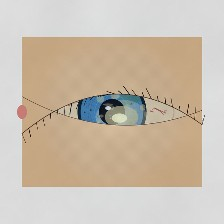corneal_ulcer: (94, 95, 149, 139)
